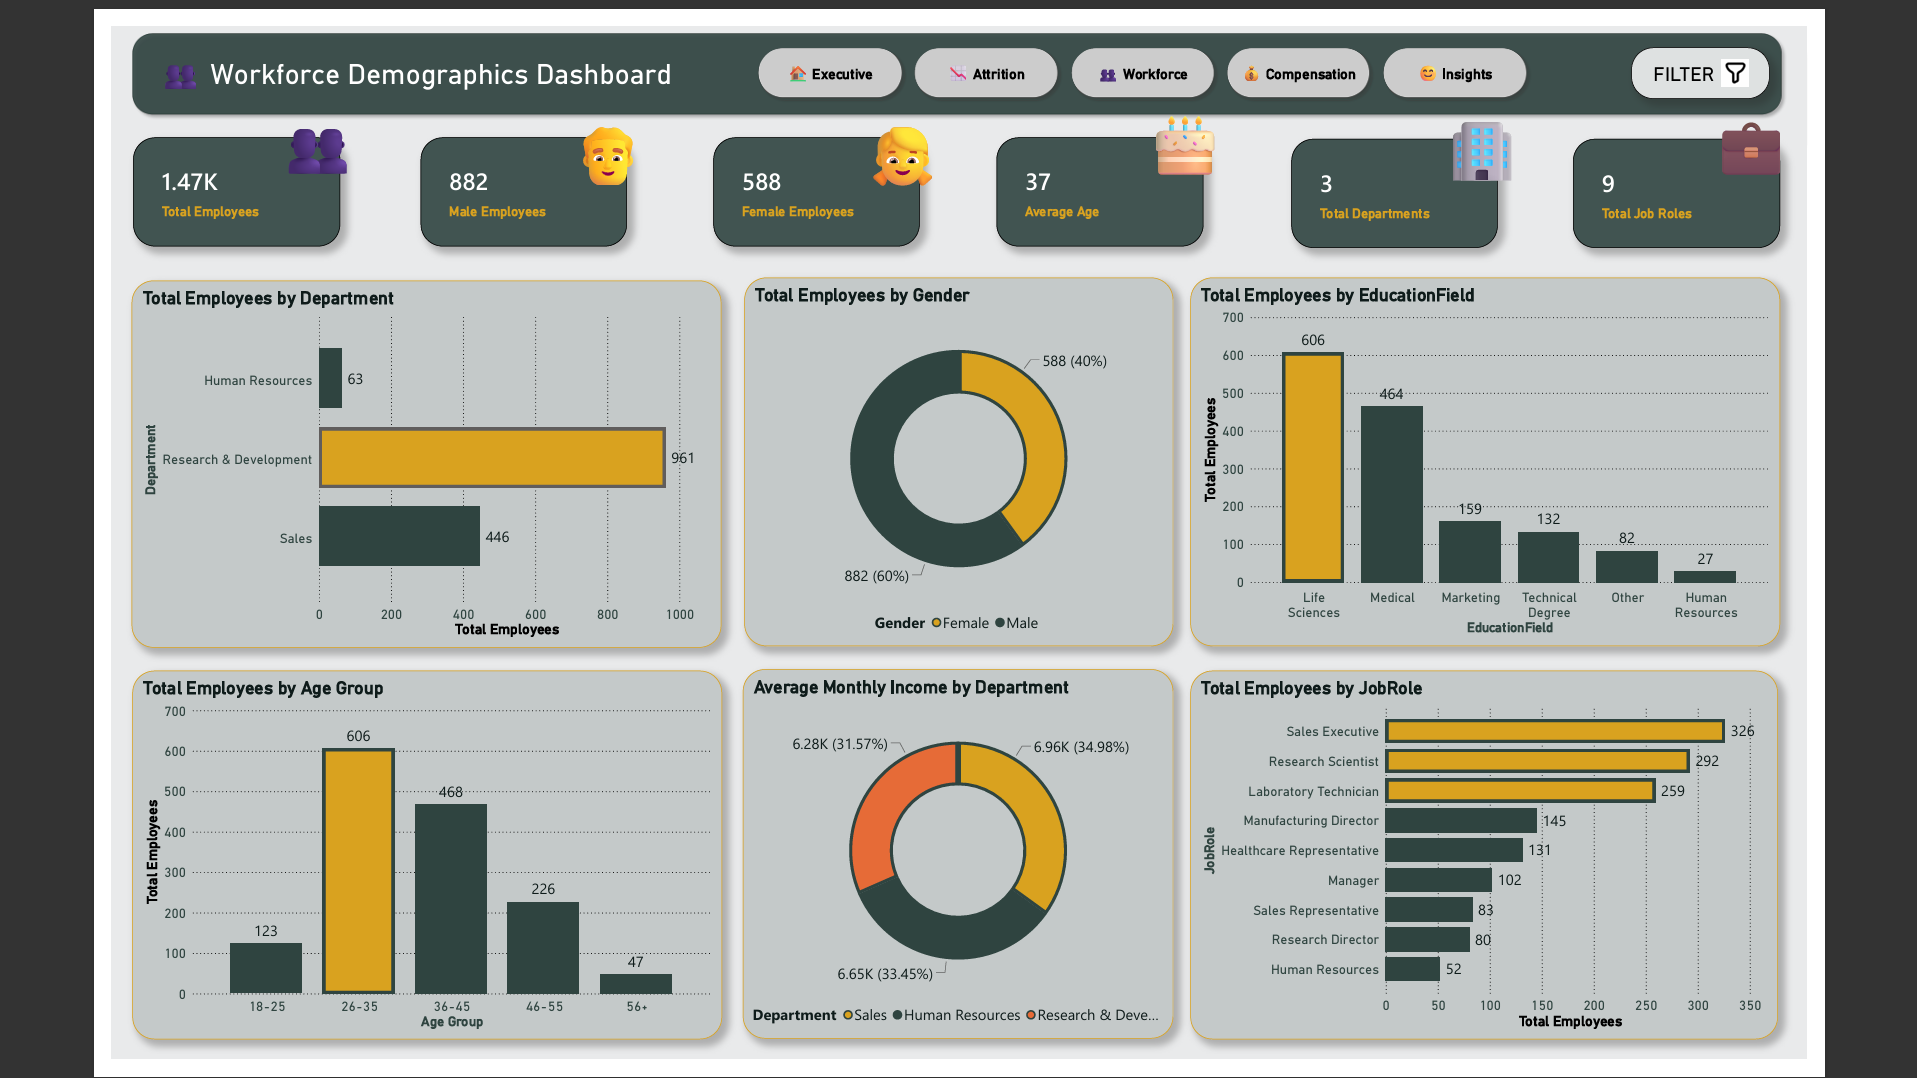

Layout of this report page (visuals, bound fields, positions):
{"tool":"powerbi","page":{"name":"Workforce Demographics","canvas":[2300,1400],"ordinal":2},"visuals":[{"type":"group","id":"g1","title":"Group 1","box":[19.4,0,2254.9,128.2],"z":0},{"type":"shape","box":[19.4,0,2254.9,128.2],"z":0,"group":"g1"},{"type":"actionButton","box":[2061.2,27.6,187.7,70.1],"z":0,"group":"g2"},{"type":"actionButton","box":[867.5,20,213,85],"z":1000,"group":"g3"},{"type":"image","box":[2157.4,43.5,90.9,36.9],"z":1000,"group":"g2"},{"type":"actionButton","box":[1080,20,211.9,85],"z":2000,"group":"g3"},{"type":"group","id":"g2","title":"Open","box":[2061.2,27.6,187.1,75],"z":2000,"group":"g1"},{"type":"actionButton","box":[1292.2,20,211.2,85],"z":3000,"group":"g3"},{"type":"actionButton","box":[1503.4,20,211.2,85],"z":4000,"group":"g3"},{"type":"textbox","box":[60.7,26.5,752.5,70.3],"z":4000,"group":"g1"},{"type":"actionButton","box":[1715.6,20,211.9,85],"z":5000,"group":"g3"},{"type":"clusteredBarChart","fields":{"Category":["HR-Employee.Department"],"Y":["HR-Employee.Total Employees"]},"box":[27,343.6,800,498.2],"z":7000},{"type":"clusteredColumnChart","fields":{"Category":["HR-Employee.EducationField"],"Y":["HR-Employee.Total Employees"]},"box":[1462.5,340,800,500],"z":8000},{"type":"donutChart","fields":{"Category":["HR-Employee.Gender"],"Y":["HR-Employee.Total Employees"]},"box":[857.5,340,582.5,500],"z":9000},{"type":"clusteredColumnChart","fields":{"Y":["HR-Employee.Total Employees"],"Category":["HR-Employee.Age Group"]},"box":[27.5,872.5,800,500],"z":10000},{"type":"clusteredBarChart","fields":{"Category":["HR-Employee.JobRole"],"Y":["HR-Employee.Total Employees"]},"box":[1463.3,873.3,796.7,500],"z":11000},{"type":"donutChart","fields":{"Category":["HR-Employee.Department"],"Y":["HR-Employee.Average Monthly Income"]},"box":[856.4,871.2,584,500.6],"z":12000},{"type":"group","id":"g3","title":"Group 1","box":[867.5,20,1060,85],"z":14000},{"type":"cardVisual","fields":{"Data":["HR-Employee.Total Employees"]},"box":[29,150.1,280.7,147.6],"z":15000,"group":"g4"},{"type":"cardVisual","fields":{"Data":["HR-Employee.Male Employees"]},"box":[418.6,150.1,280.7,147.6],"z":16000,"group":"g4"},{"type":"cardVisual","fields":{"Data":["HR-Employee.Female Employees"]},"box":[815.5,150.1,280.7,147.6],"z":17000,"group":"g4"},{"type":"cardVisual","fields":{"Data":["HR-Employee.Average Age"]},"box":[1200.3,150.1,280.7,147.6],"z":18000,"group":"g4"},{"type":"cardVisual","fields":{"Data":["HR-Employee.Total Departments"]},"box":[1599.6,152.5,280.7,147.6],"z":19000,"group":"g4"},{"type":"cardVisual","fields":{"Data":["HR-Employee.Total Job Roles"]},"box":[1982,152.5,280.7,147.6],"z":20000,"group":"g4"},{"type":"textbox","box":[220.8,95.7,257.7,130.1],"z":20500,"group":"g4"},{"type":"textbox","box":[613.5,95.7,255.2,162],"z":21000,"group":"g4"},{"type":"textbox","box":[1013.5,95.7,257.7,162],"z":21500,"group":"g4"},{"type":"textbox","box":[1396.3,81,257.7,162],"z":22000,"group":"g4"},{"type":"textbox","box":[1798.7,105.5,255.2,162],"z":22500,"group":"g4"},{"type":"textbox","box":[2164.4,81,110.4,162],"z":23000,"group":"g4"},{"type":"group","id":"g4","title":"Group 2","box":[29,81,2245.8,219.1],"z":23001}]}

Visuals, with their boxes on the page's 2300x1400 design canvas (x1, y1, x2, y2). These are canvas units, not pixel positions in the 1917x1078 screenshot, which may show the page scaled, cropped or inside an application window:
"Group 1" group: bbox(19, 0, 2274, 128)
shape: bbox(19, 0, 2274, 128)
actionButton: bbox(2061, 28, 2249, 98)
actionButton: bbox(868, 20, 1080, 105)
image: bbox(2157, 44, 2248, 80)
actionButton: bbox(1080, 20, 1292, 105)
"Open" group: bbox(2061, 28, 2248, 103)
actionButton: bbox(1292, 20, 1503, 105)
actionButton: bbox(1503, 20, 1715, 105)
textbox: bbox(61, 26, 813, 97)
actionButton: bbox(1716, 20, 1928, 105)
clusteredBarChart - HR-Employee.Department x HR-Employee.Total Employees: bbox(27, 344, 827, 842)
clusteredColumnChart - HR-Employee.EducationField x HR-Employee.Total Employees: bbox(1462, 340, 2262, 840)
donutChart - HR-Employee.Gender x HR-Employee.Total Employees: bbox(858, 340, 1440, 840)
clusteredColumnChart - HR-Employee.Total Employees x HR-Employee.Age Group: bbox(28, 872, 828, 1372)
clusteredBarChart - HR-Employee.JobRole x HR-Employee.Total Employees: bbox(1463, 873, 2260, 1373)
donutChart - HR-Employee.Department x HR-Employee.Average Monthly Income: bbox(856, 871, 1440, 1372)
"Group 1" group: bbox(868, 20, 1928, 105)
cardVisual - HR-Employee.Total Employees: bbox(29, 150, 310, 298)
cardVisual - HR-Employee.Male Employees: bbox(419, 150, 699, 298)
cardVisual - HR-Employee.Female Employees: bbox(816, 150, 1096, 298)
cardVisual - HR-Employee.Average Age: bbox(1200, 150, 1481, 298)
cardVisual - HR-Employee.Total Departments: bbox(1600, 152, 1880, 300)
cardVisual - HR-Employee.Total Job Roles: bbox(1982, 152, 2263, 300)
textbox: bbox(221, 96, 478, 226)
textbox: bbox(614, 96, 869, 258)
textbox: bbox(1014, 96, 1271, 258)
textbox: bbox(1396, 81, 1654, 243)
textbox: bbox(1799, 106, 2054, 268)
textbox: bbox(2164, 81, 2275, 243)
"Group 2" group: bbox(29, 81, 2275, 300)
